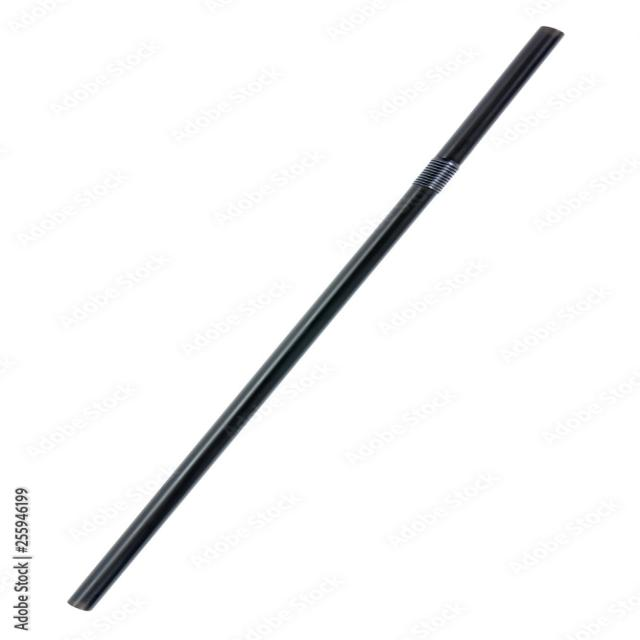plastic: (54, 11, 588, 625)
